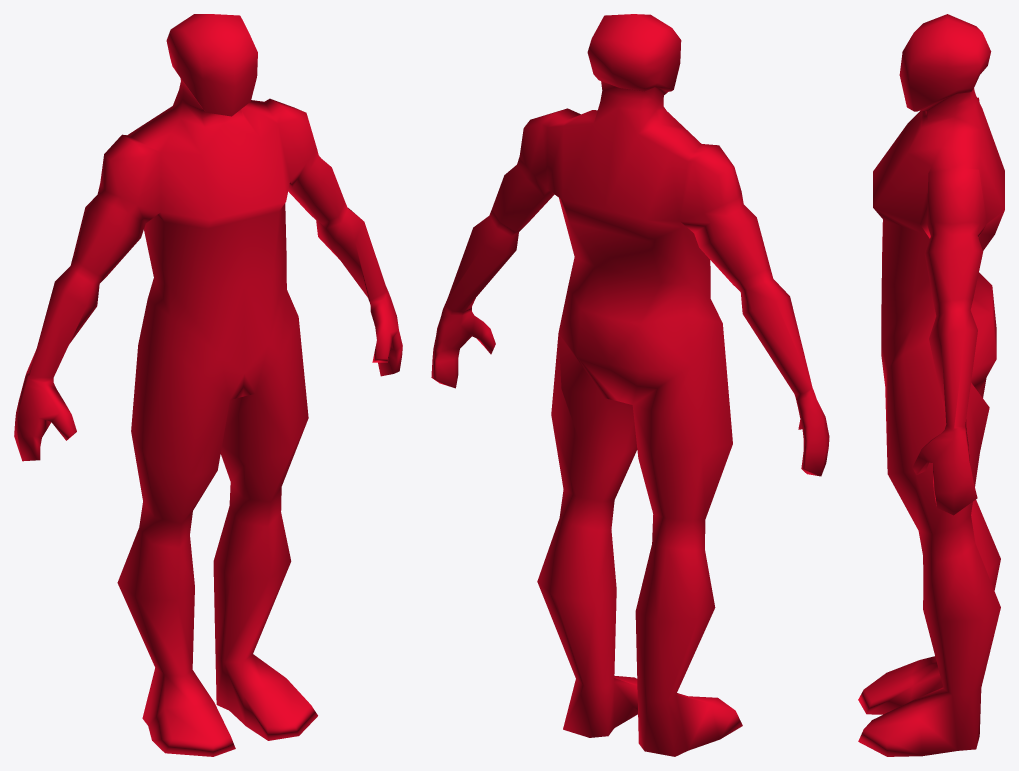
File: Red.fbx
The picture shows the model from 3 angles, left to right: view 1: azimuth 30°, elevation 25°; view 2: azimuth 150°, elevation 25°; view 3: azimuth 270°, elevation 25°; orthographic projection. The views are drawn at different scales.
Parts seen in each view (by area): view 1: Start1; view 2: Start1; view 3: Start1.
Part boxes in pixels (x1=…): Start1: x1=14, y1=14, x2=402, y2=756; Start1: x1=431, y1=14, x2=829, y2=756; Start1: x1=858, y1=14, x2=1004, y2=756.
Bounding box in the file's own units: 4.9 × 8.63 × 1.63.
